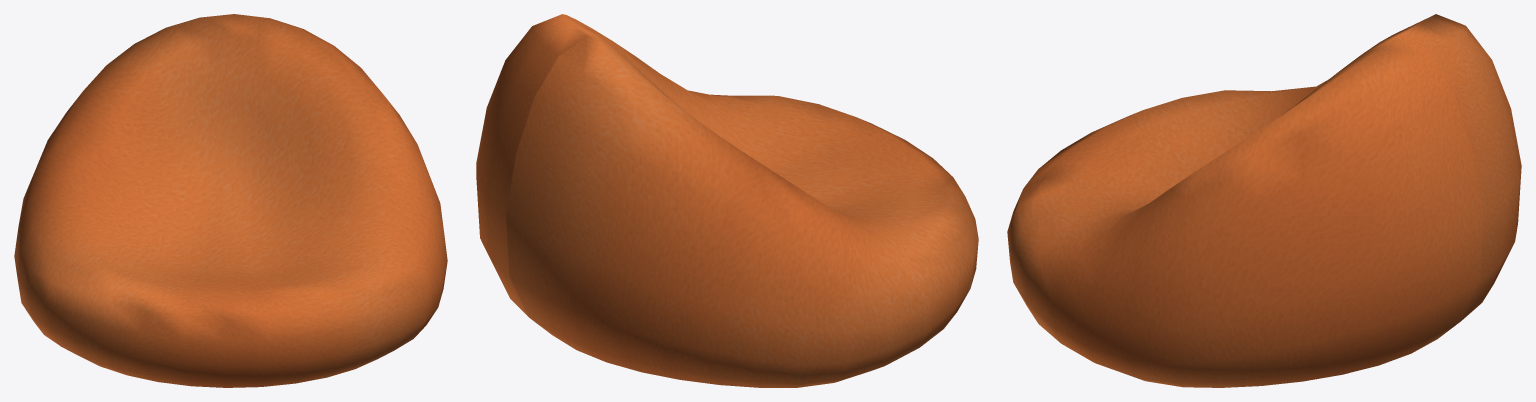
The model's file is Beanbag.glb.
3 views of the same model, side by side, from view 1: azimuth 30°, elevation 25°; view 2: azimuth 150°, elevation 25°; view 3: azimuth 270°, elevation 25° (orthographic). The views are drawn at different scales.
Visible parts, largest first — view 1: BeanBagChair.007; view 2: BeanBagChair.007; view 3: BeanBagChair.007.
Part boxes in pixels (x1=…): BeanBagChair.007: x1=14, y1=14, x2=447, y2=387; BeanBagChair.007: x1=476, y1=14, x2=978, y2=387; BeanBagChair.007: x1=1007, y1=14, x2=1521, y2=387.
Size of what is drawn, in the model's own units: 2.06 by 1.32 by 2.01.
Materials: 1 (1 with a texture image).
